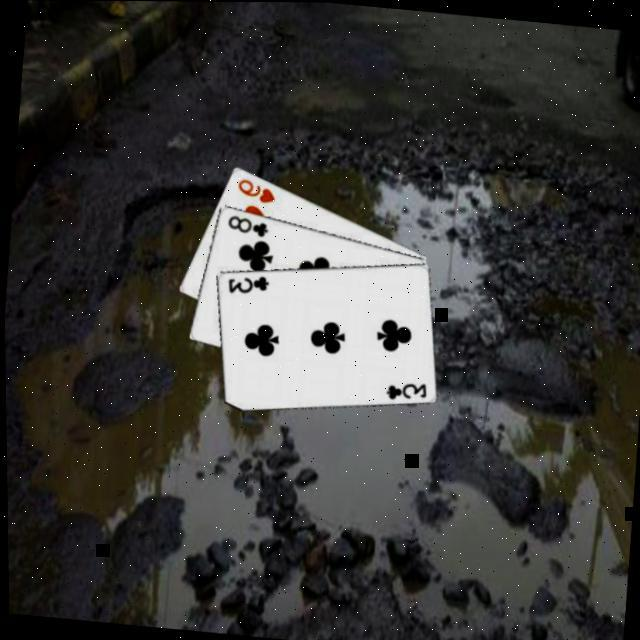3C: (224, 268, 272, 298), (382, 376, 430, 404)
8C: (225, 209, 272, 239)
9H: (234, 174, 280, 205)
